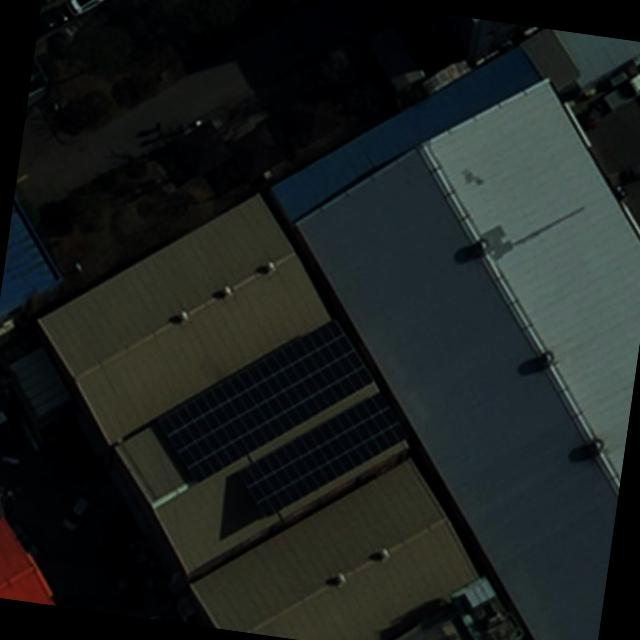solar: (141, 288, 387, 511), (226, 365, 420, 542)
